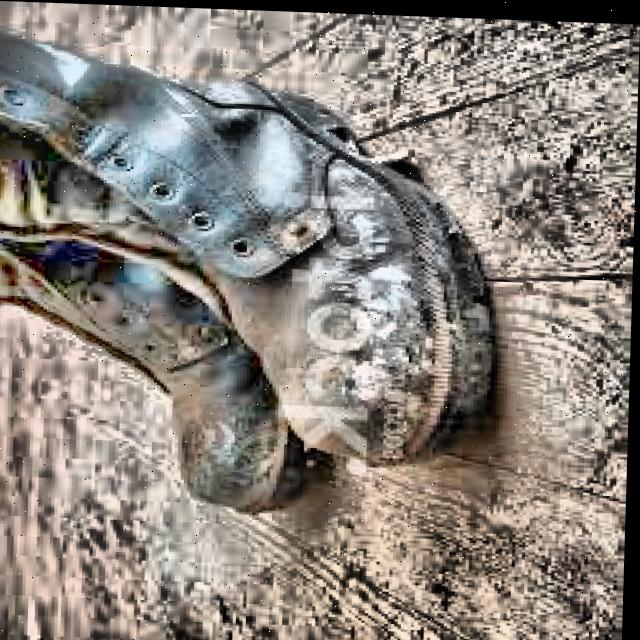shoes: (0, 21, 510, 530)
